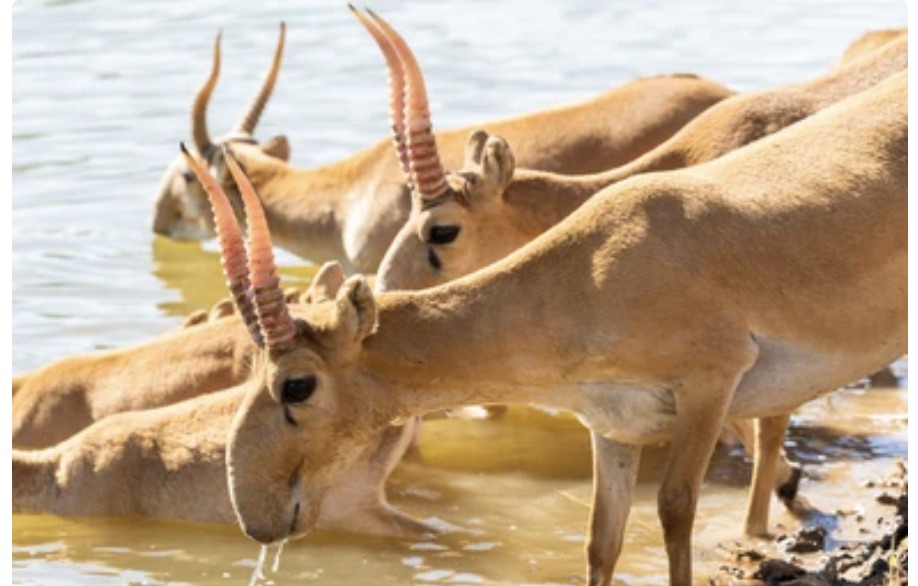saiga: (172, 79, 918, 586)
